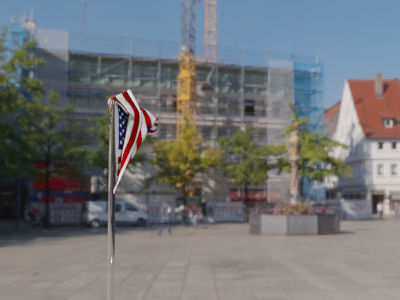America flag: (108, 87, 160, 196)
